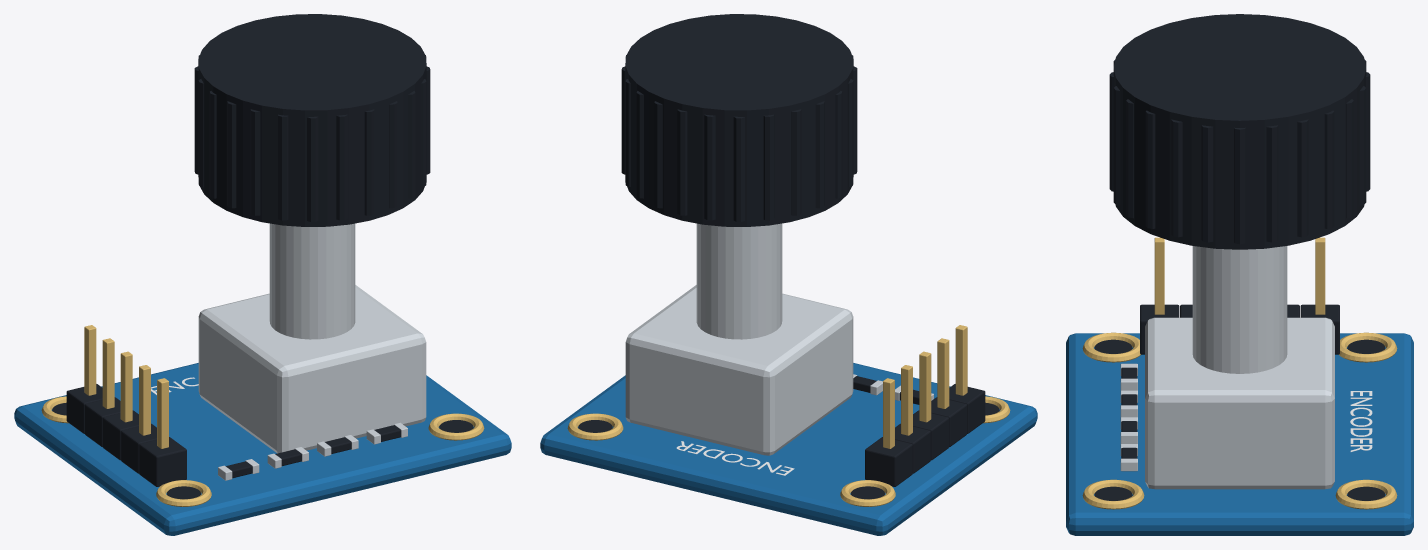
File: rotary-encoder.glb
3 views of the same model, side by side, from view 1: azimuth 30°, elevation 25°; view 2: azimuth 150°, elevation 25°; view 3: azimuth 270°, elevation 25° (orthographic). The views are drawn at different scales.
Parts seen in each view (by area): view 1: Knurled knob • black, Static body • blue, Static body • silver, Static body • black, Rotating shaft • silver, Static body • gold; view 2: Knurled knob • black, Static body • blue, Static body • silver, Static body • black, Rotating shaft • silver, Static body • gold, Static body • white; view 3: Knurled knob • black, Static body • blue, Static body • silver, Static body • black, Rotating shaft • silver, Static body • gold, Static body • white.
Part boxes in pixels (<box>): Knurled knob • black: <box>198,14,426,226</box>; Static body • blue: <box>14,363,511,535</box>; Static body • silver: <box>198,285,426,480</box>; Static body • black: <box>52,55,473,499</box>; Rotating shaft • silver: <box>269,223,355,339</box>; Static body • gold: <box>41,325,484,506</box>; Knurled knob • black: <box>625,14,853,226</box>; Static body • blue: <box>540,363,1037,535</box>; Static body • silver: <box>625,285,933,455</box>; Static body • black: <box>578,55,999,499</box>; Rotating shaft • silver: <box>696,223,782,339</box>; Static body • gold: <box>567,325,1010,506</box>; Static body • white: <box>676,441,794,475</box>; Knurled knob • black: <box>1113,14,1366,249</box>; Static body • blue: <box>1066,333,1413,535</box>; Static body • silver: <box>1120,317,1334,489</box>; Static body • black: <box>1094,60,1385,500</box>; Rotating shaft • silver: <box>1192,246,1287,373</box>; Static body • gold: <box>1082,237,1397,509</box>; Static body • white: <box>1350,391,1372,451</box>.
Size of the model in its own units: 28 by 28.3 by 22.
